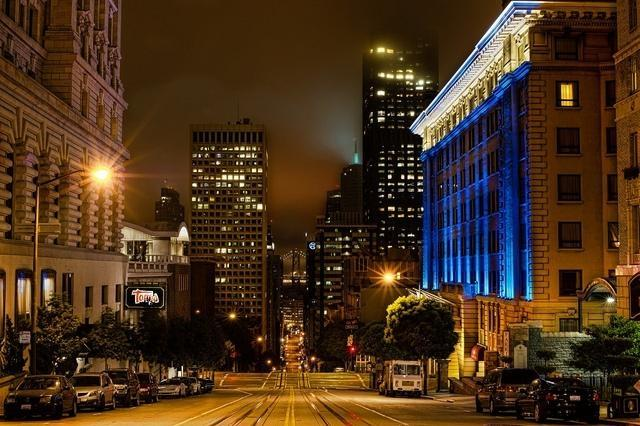car: (514, 377, 600, 425), (2, 375, 79, 422), (474, 367, 540, 416), (74, 372, 120, 409), (102, 368, 140, 407), (136, 372, 160, 404), (158, 378, 188, 399), (195, 377, 215, 394), (189, 377, 201, 395)
truck: (377, 358, 427, 398), (188, 376, 202, 394)
